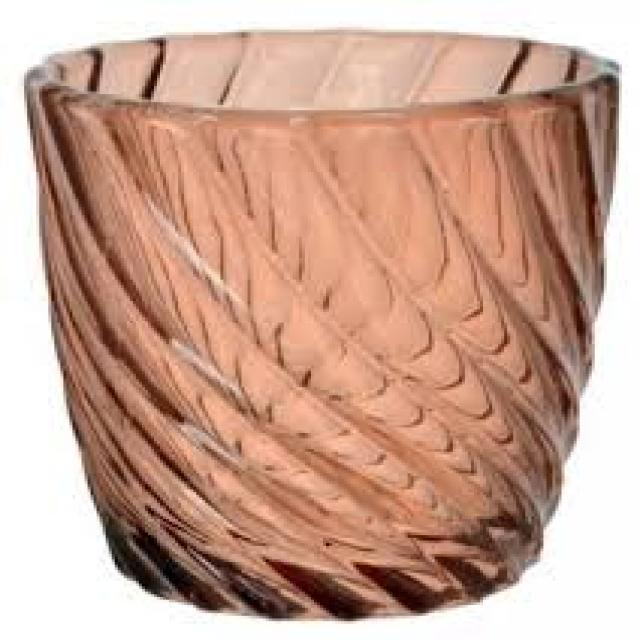glass: (18, 27, 616, 618)
